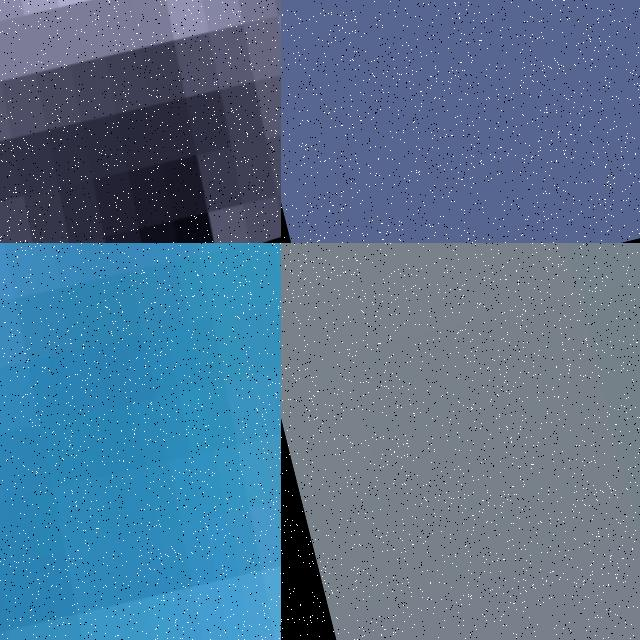0: (0, 0, 281, 243)
drone: (0, 243, 281, 640)
